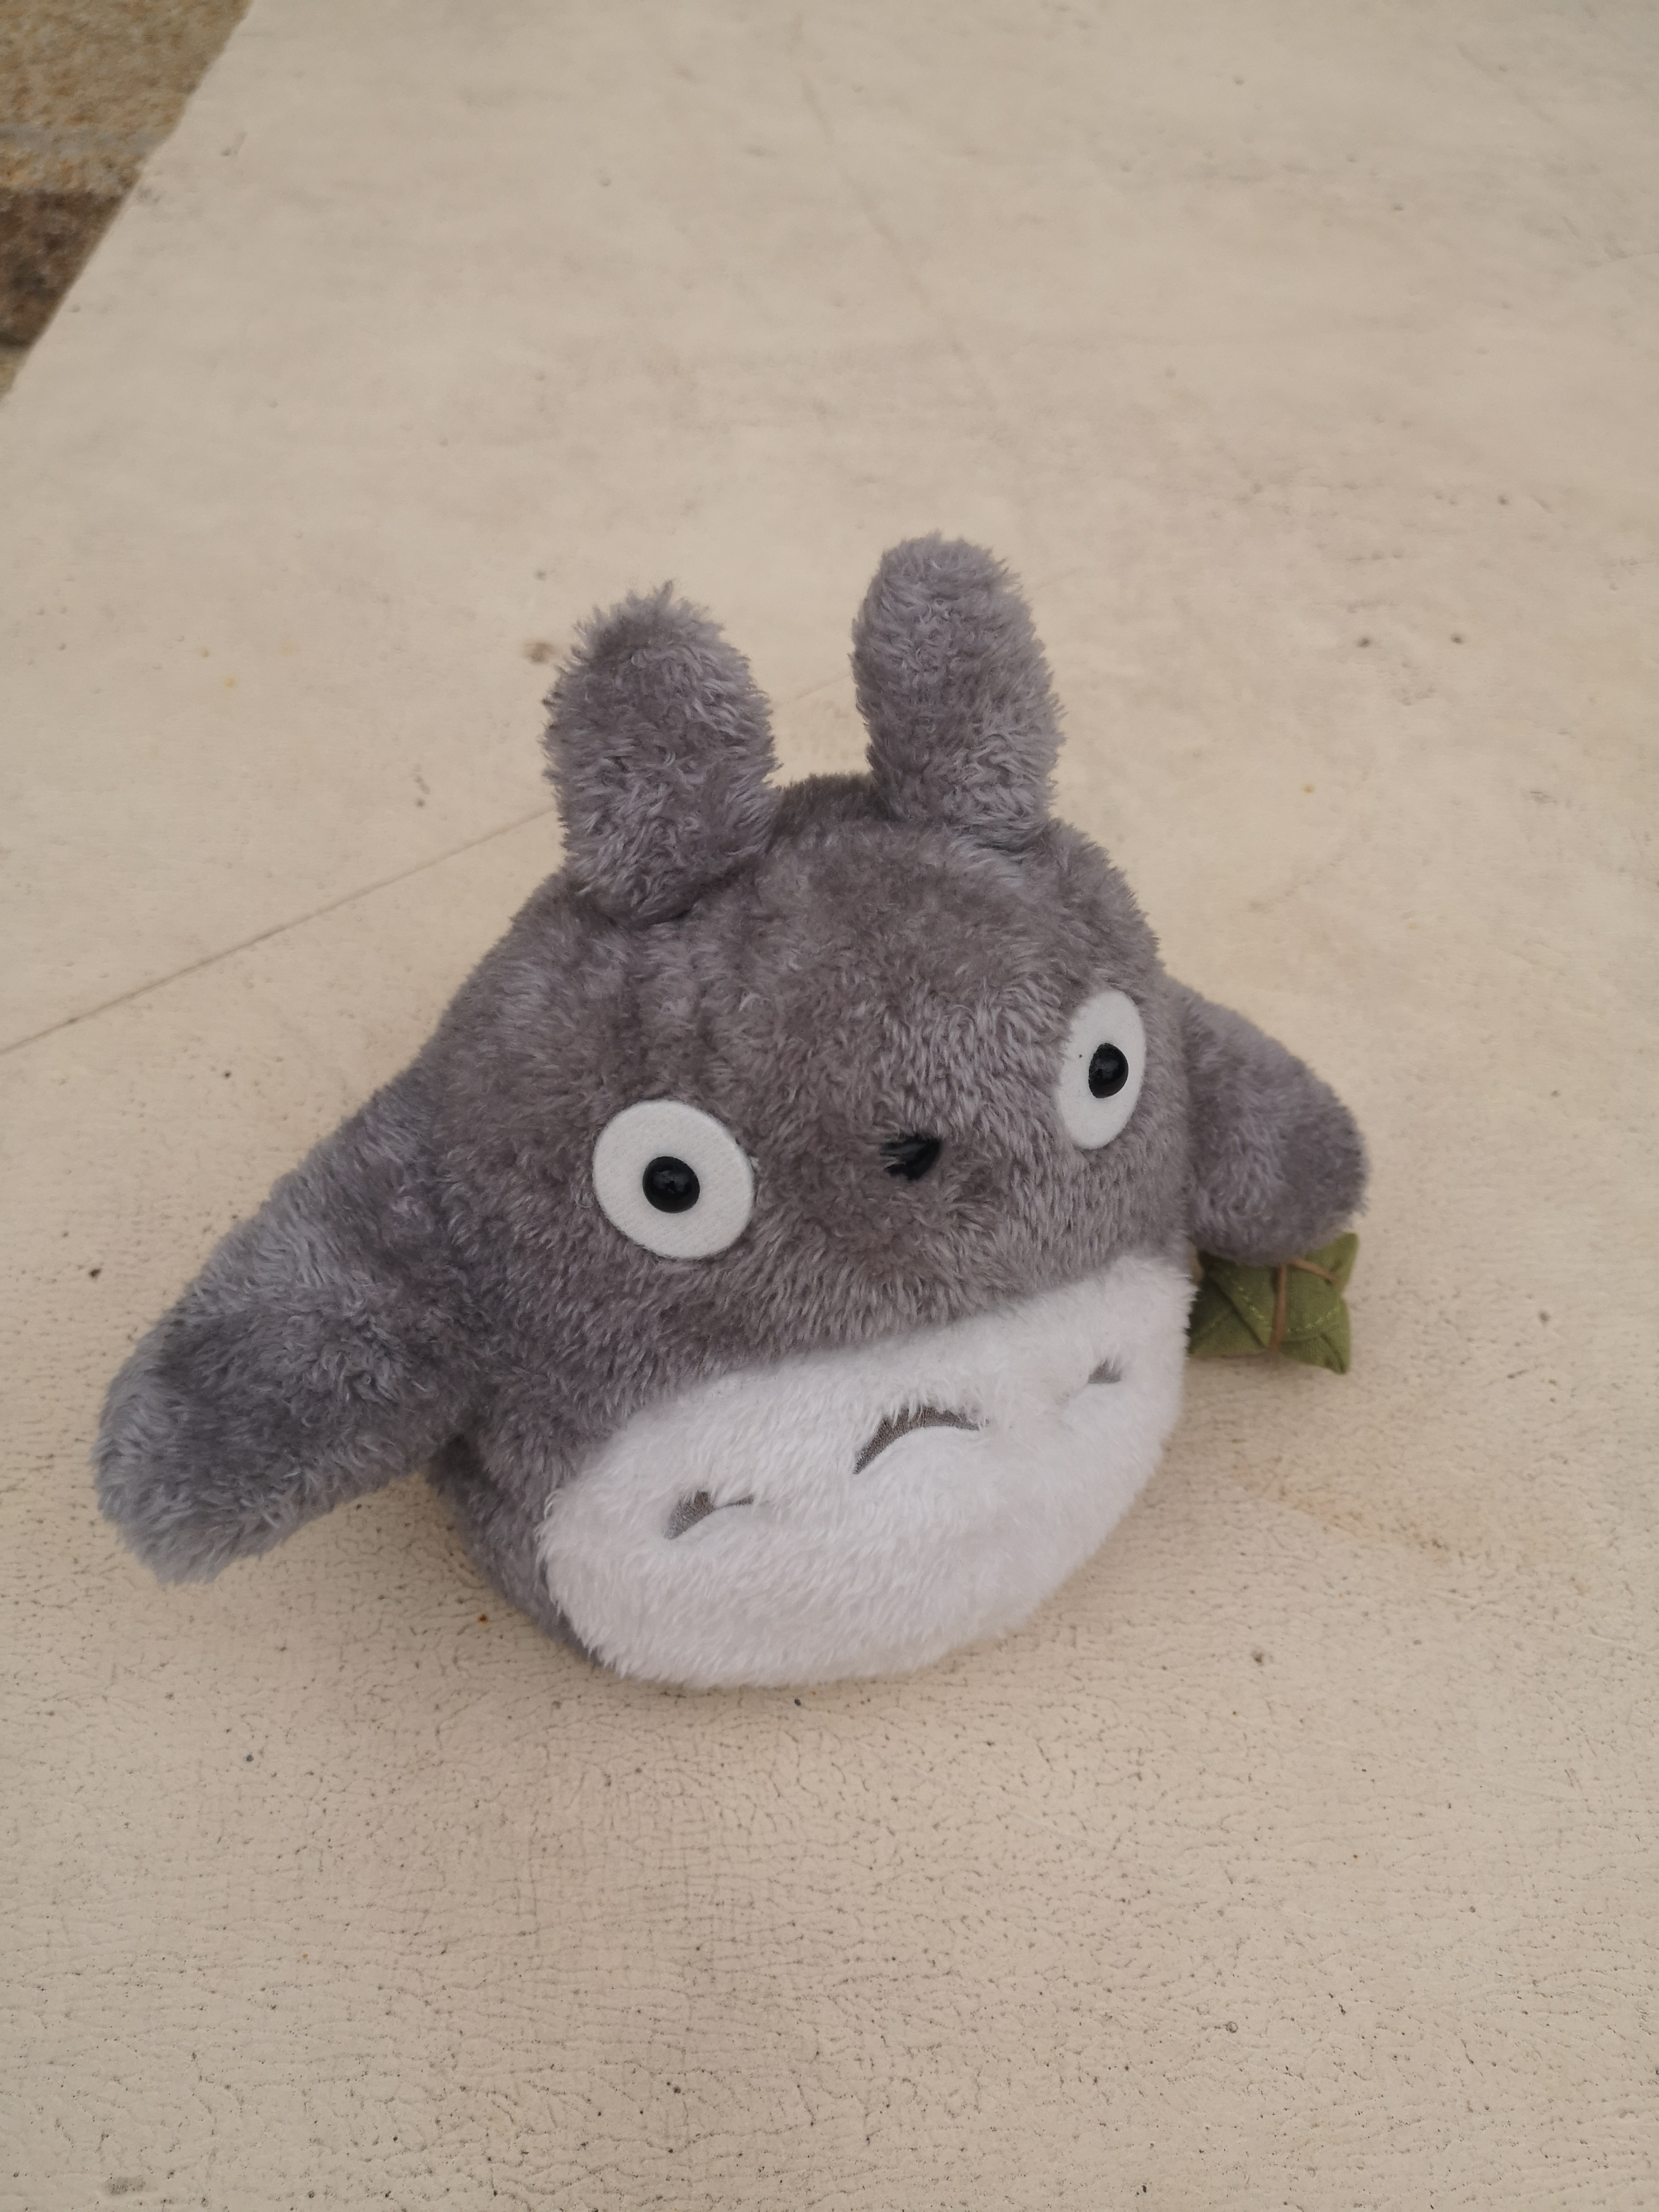totoro: (82, 521, 1377, 1710)
